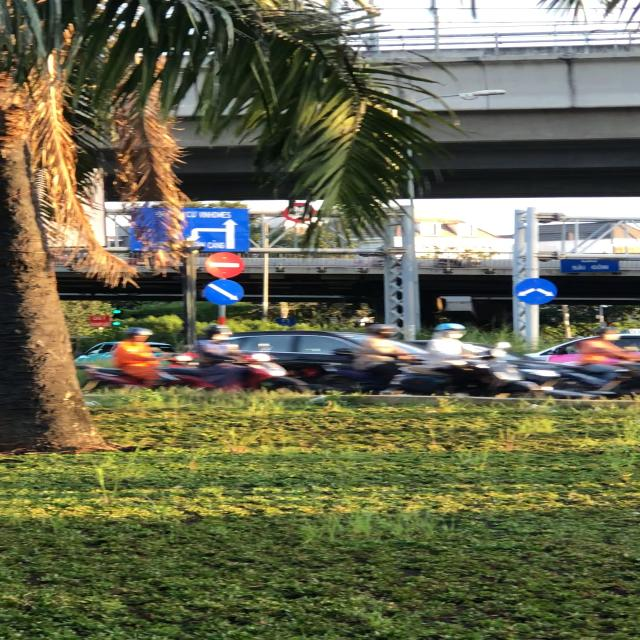Bien bao cam di nguoc chieu: (202, 250, 248, 279)
Bien bao huong phai di vong chuong ngai vat: (511, 275, 564, 308), (205, 278, 248, 308)
